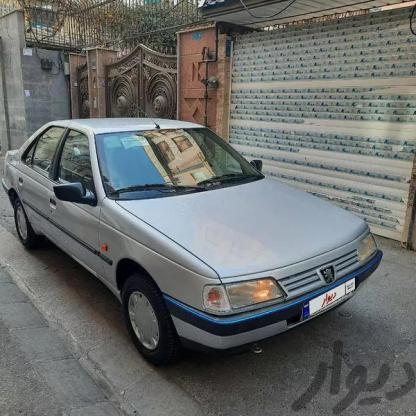Car: (0, 108, 379, 371)
